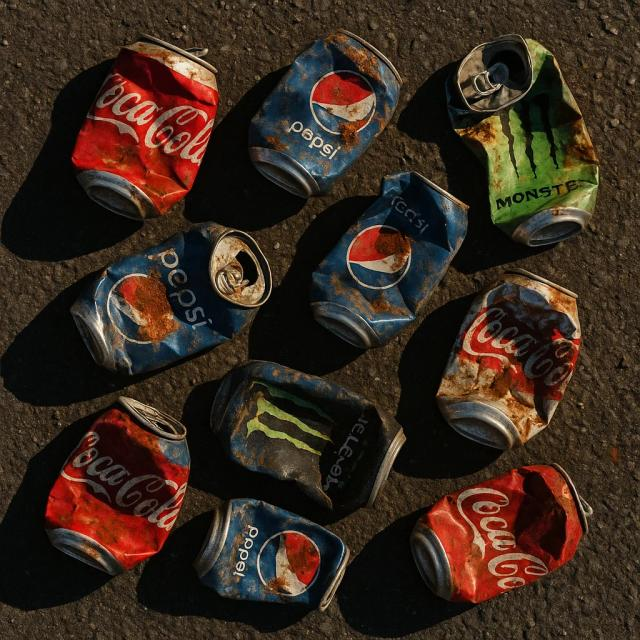aluminum: (445, 38, 602, 243), (57, 228, 275, 374), (204, 359, 410, 512), (308, 173, 472, 351), (61, 36, 221, 217), (40, 396, 191, 571), (248, 33, 407, 198), (437, 269, 580, 452), (409, 460, 592, 601), (203, 501, 354, 615)
